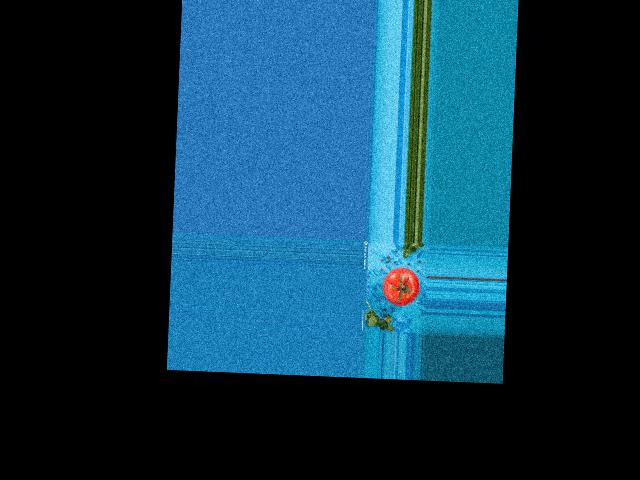tomato: (381, 267, 420, 307)
